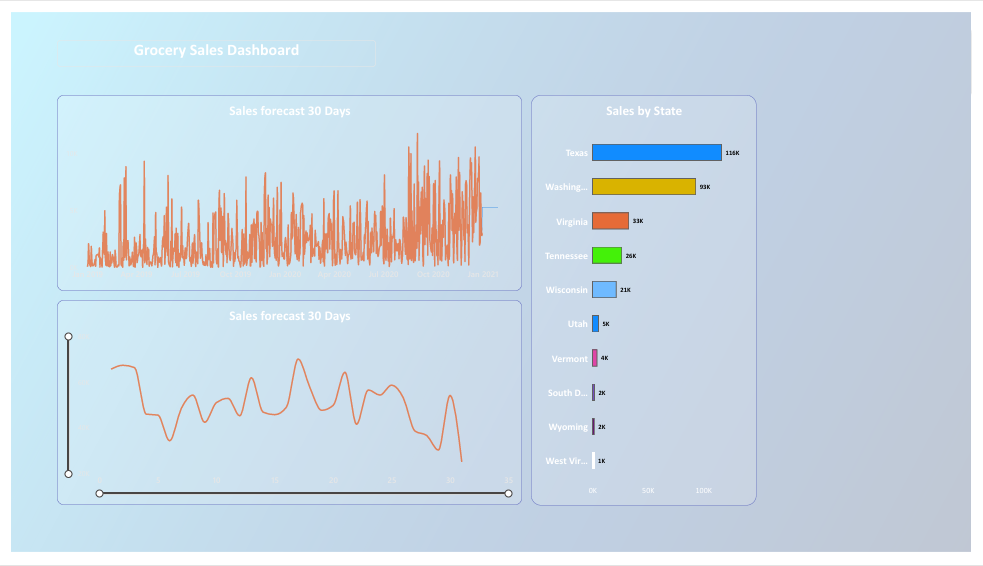

Layout of this report page (visuals, bound fields, positions):
{"tool":"powerbi","page":{"name":"Page 2","canvas":[1920,1080],"ordinal":1},"visuals":[{"type":"lineChart","title":"Sales forecast 30 Days","fields":{"Y":["Sum(Sheet1.Sales)"],"Category":["Sheet1.Order Date"]},"box":[90,164,930,392],"z":0},{"type":"lineChart","title":"Sales forecast 30 Days","fields":{"Y":["Sum(Sheet1.Sales)"],"Category":["Sheet1.Order Date.Variation.Date Hierarchy.Day"]},"box":[90,574,930,410],"z":1000},{"type":"clusteredBarChart","title":"Sales by State","fields":{"Category":["Sheet1.State"],"Y":["Sum(Sheet1.Sales)"]},"box":[1038.1,163.8,451,821.4],"z":2000},{"type":"textbox","box":[90,54,638,54],"z":3000}]}

Visuals, with their boxes in screenshot pixels (x1, y1, x2, y2), scaled from the page's 1920x1080 canvas onto the 983x566 screenshot:
"Sales forecast 30 Days" lineChart: [left=46, top=86, right=522, bottom=291]
"Sales forecast 30 Days" lineChart: [left=46, top=301, right=522, bottom=516]
"Sales by State" clusteredBarChart: [left=531, top=86, right=762, bottom=516]
textbox: [left=46, top=28, right=373, bottom=57]
